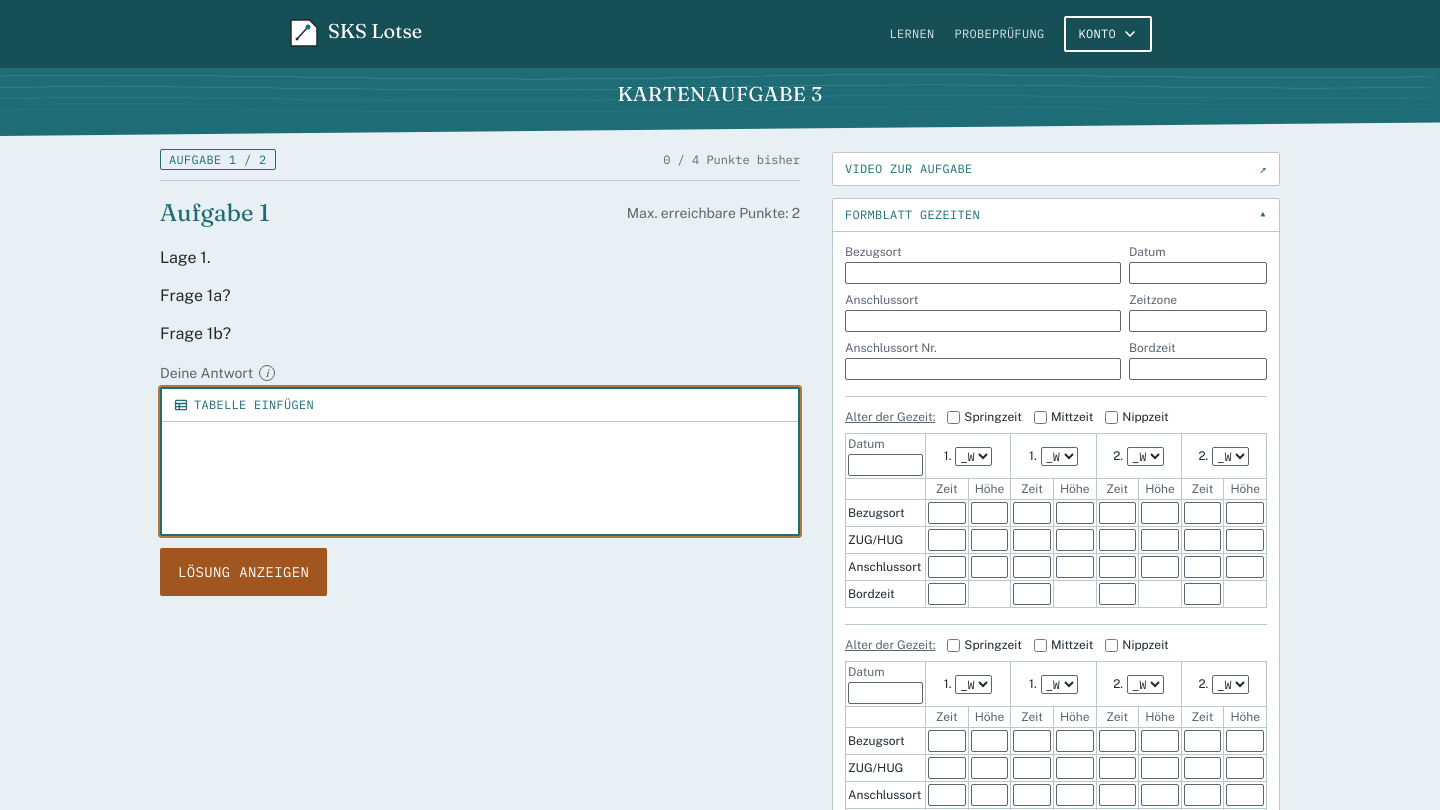
Test: ChartAttemptPage › removes the table again and joins the text around it
Type "oben" into the text box labelled "Deine Antwort" at [480, 478], box [162,422,798,534]
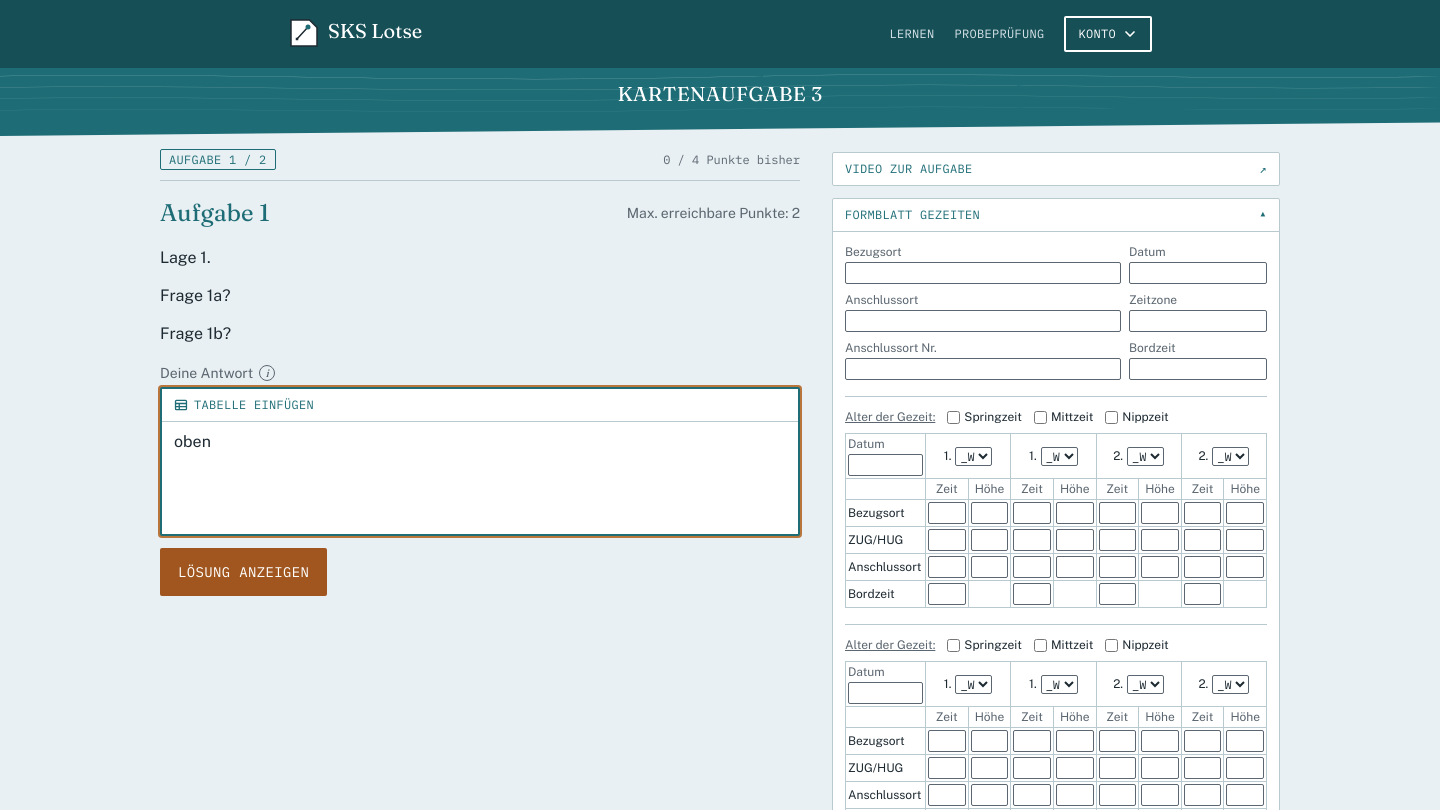
Click the button "Tabelle einfügen" at [244, 405], box [166,393,322,417]
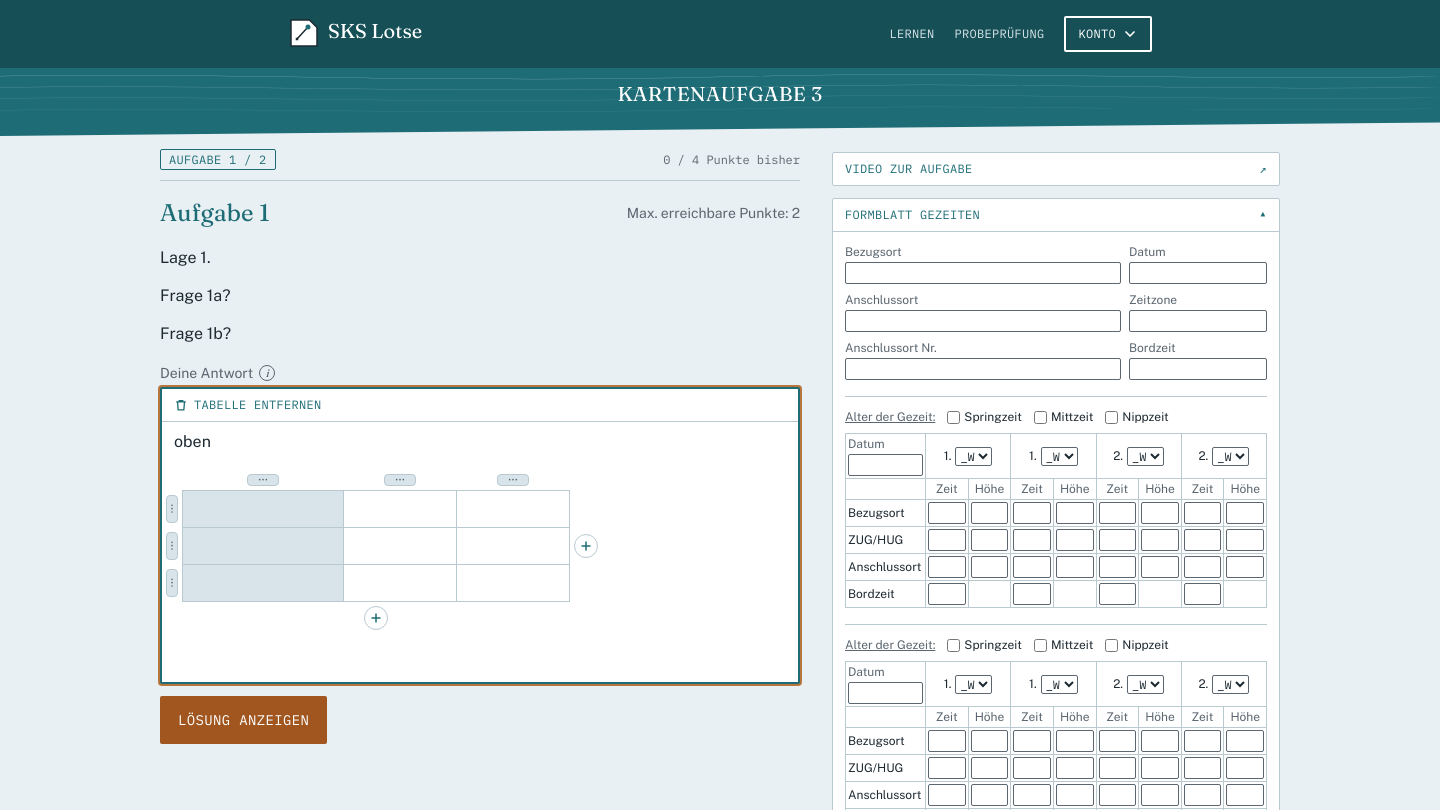
Type "unten" into the text box named "Text unter der Tabelle" at [480, 658], box [162,634,798,682]
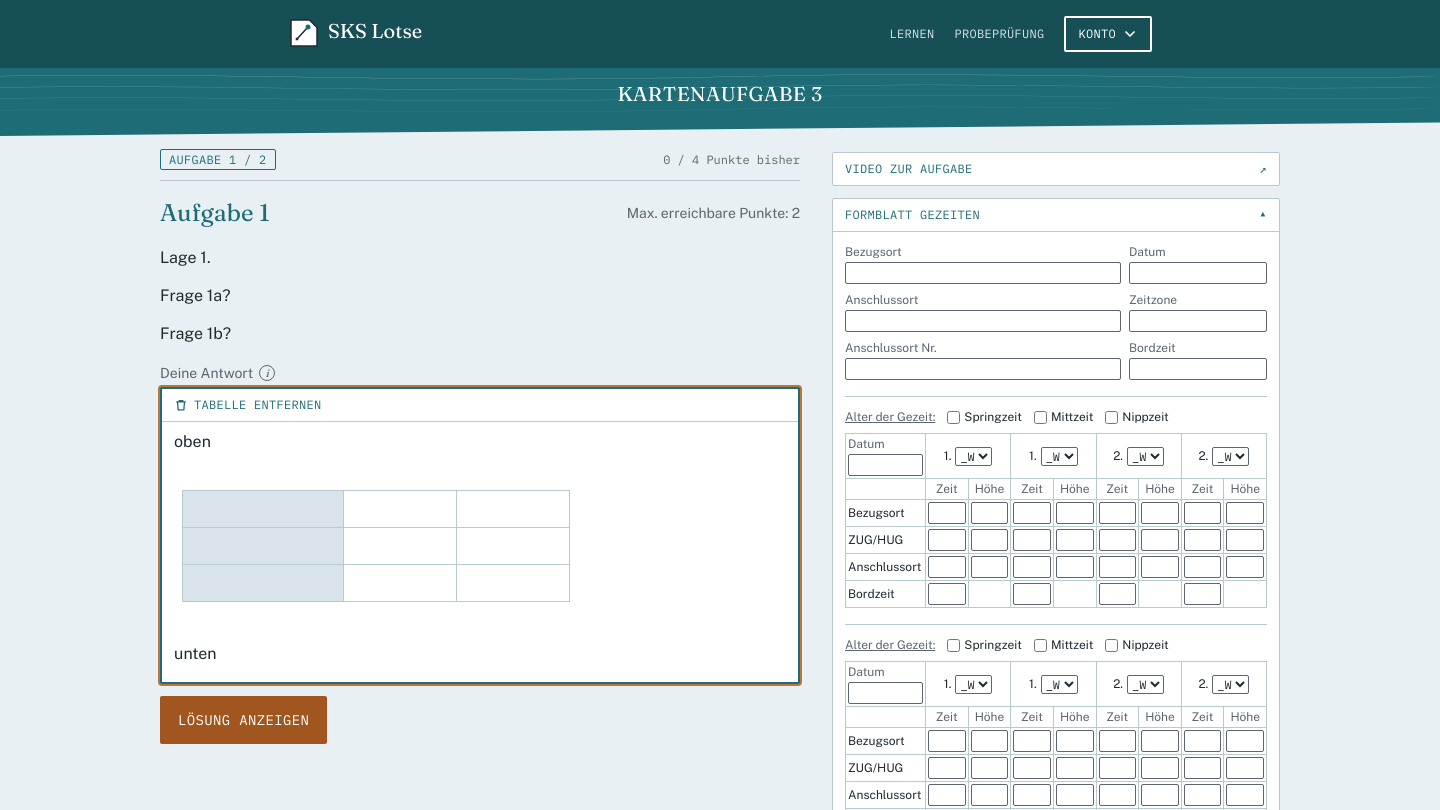
Click the button "Tabelle entfernen" at [248, 405], box [166,393,330,417]
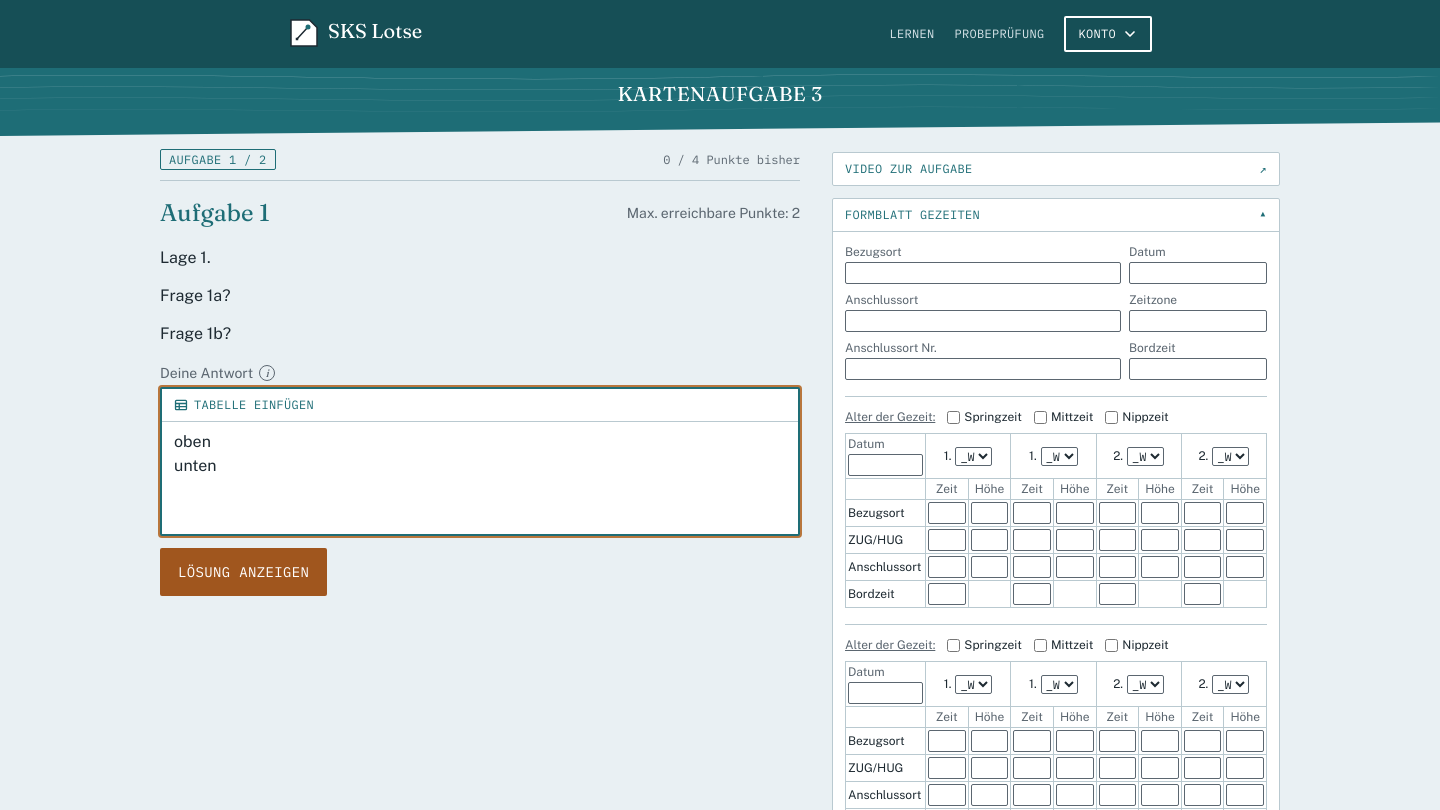
Now the table "Text unter der Tabelle" is gone
Now the button "Tabelle einfügen" is shown, box [166,393,322,417]
